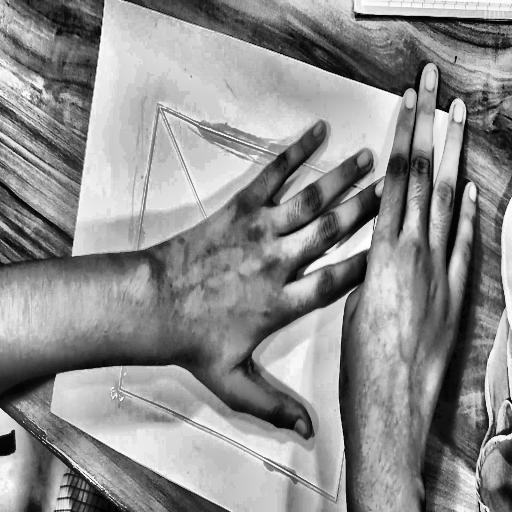bottom_left: (48, 404, 55, 417)
envelop: (100, 99, 400, 512)
top_right: (451, 110, 459, 122)
